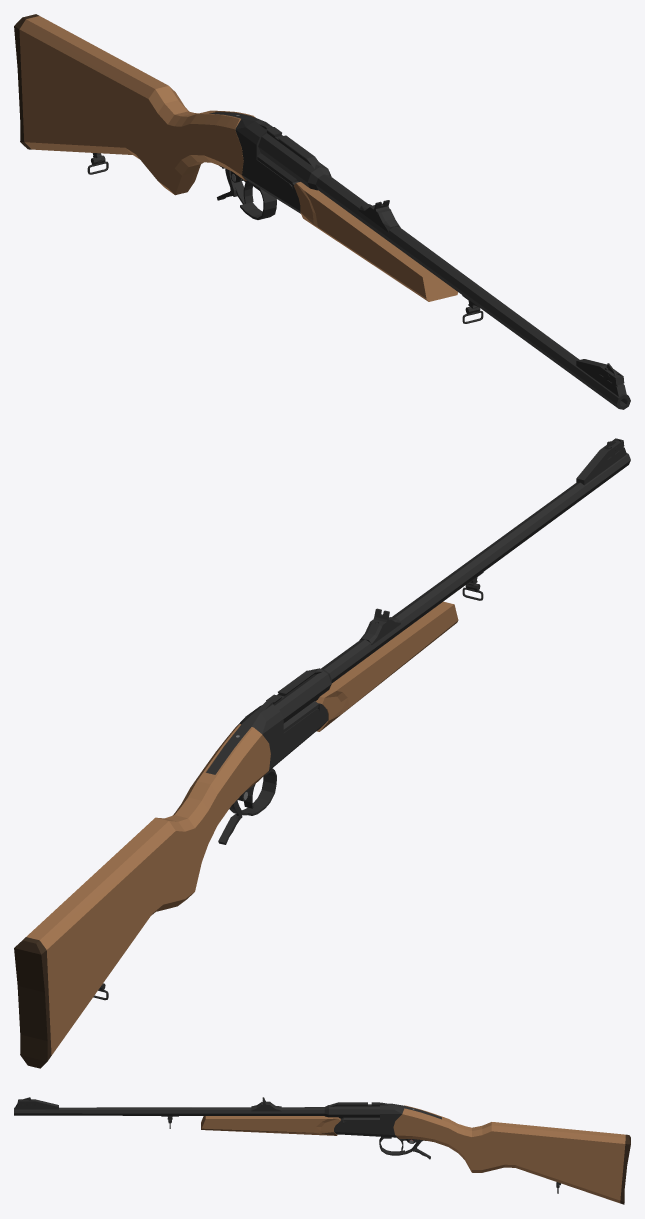
The model's file is izh-18mh_low-poly.glb.
3 renders of one model, top to bottom at view 1: azimuth 30°, elevation 25°; view 2: azimuth 150°, elevation 25°; view 3: azimuth 270°, elevation 25°, orthographic. The views are drawn at different scales.
Parts seen in each view (by area): view 1: IZh-18MH 1, IZh-18MH 1 Barrel 1; view 2: IZh-18MH 1, IZh-18MH 1 Barrel 1; view 3: IZh-18MH 1, IZh-18MH 1 Barrel 1.
Part boxes in pixels (x1,y1,x2,y2): IZh-18MH 1: (14,14,300,219); IZh-18MH 1 Barrel 1: (257,127,630,409); IZh-18MH 1: (14,700,325,1068); IZh-18MH 1 Barrel 1: (266,438,630,732); IZh-18MH 1: (336,1102,630,1204); IZh-18MH 1 Barrel 1: (14,1097,379,1135).
Size of the model in its own units: 0.0349 by 0.2136 by 1.13.
